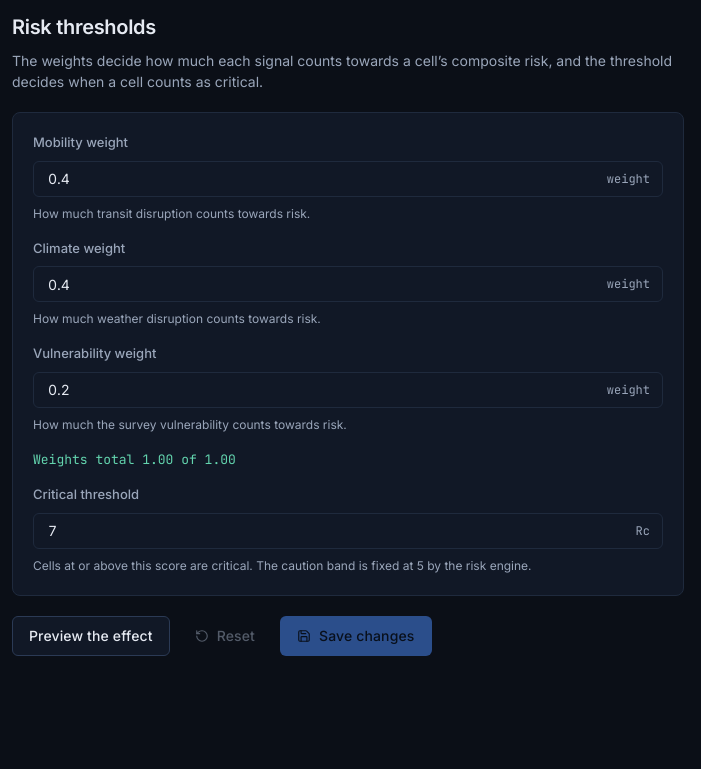
Test: ThresholdForm › refuses a critical threshold below the caution band
Replace the text in the number field labelled "Critical threshold" with "4" at {"x": 337, "y": 530}, box [46,519,628,542]
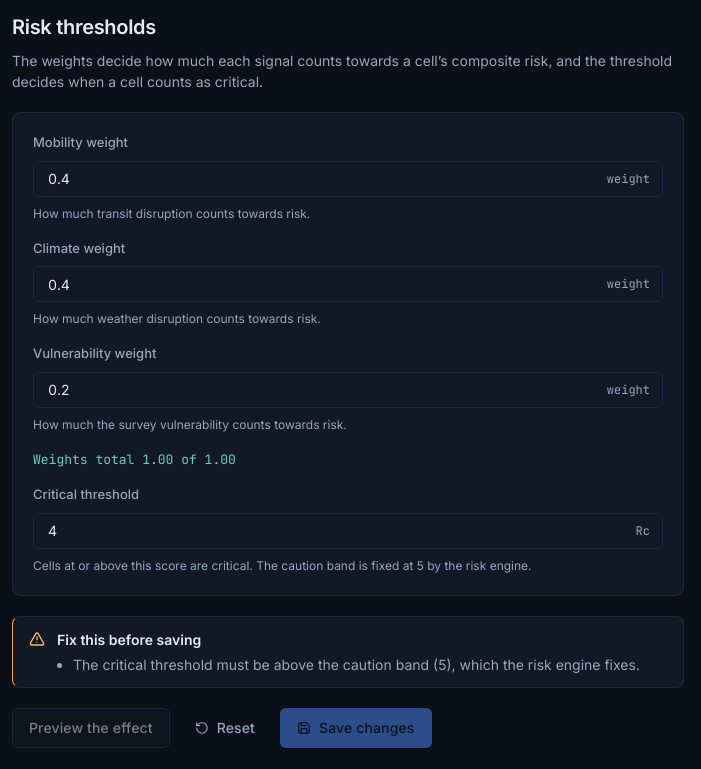
expect the list item "must be above the caution band" is shown: met, box [73,656,640,672]
